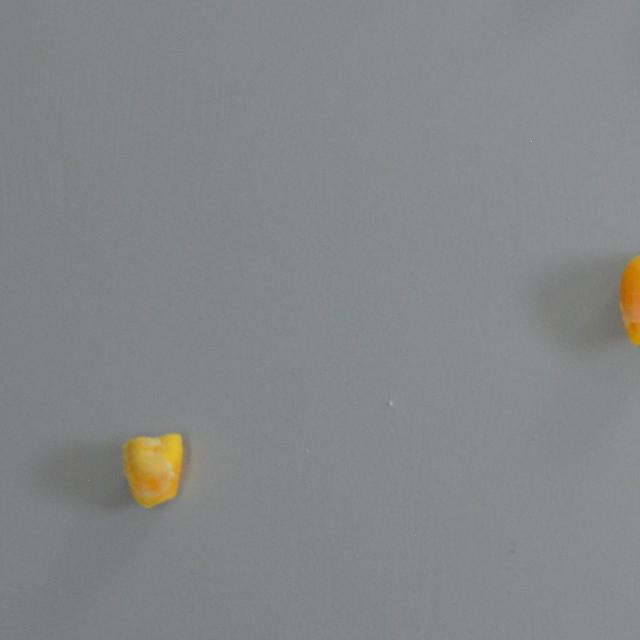pelicula: (122, 433, 184, 509), (616, 248, 640, 346)
